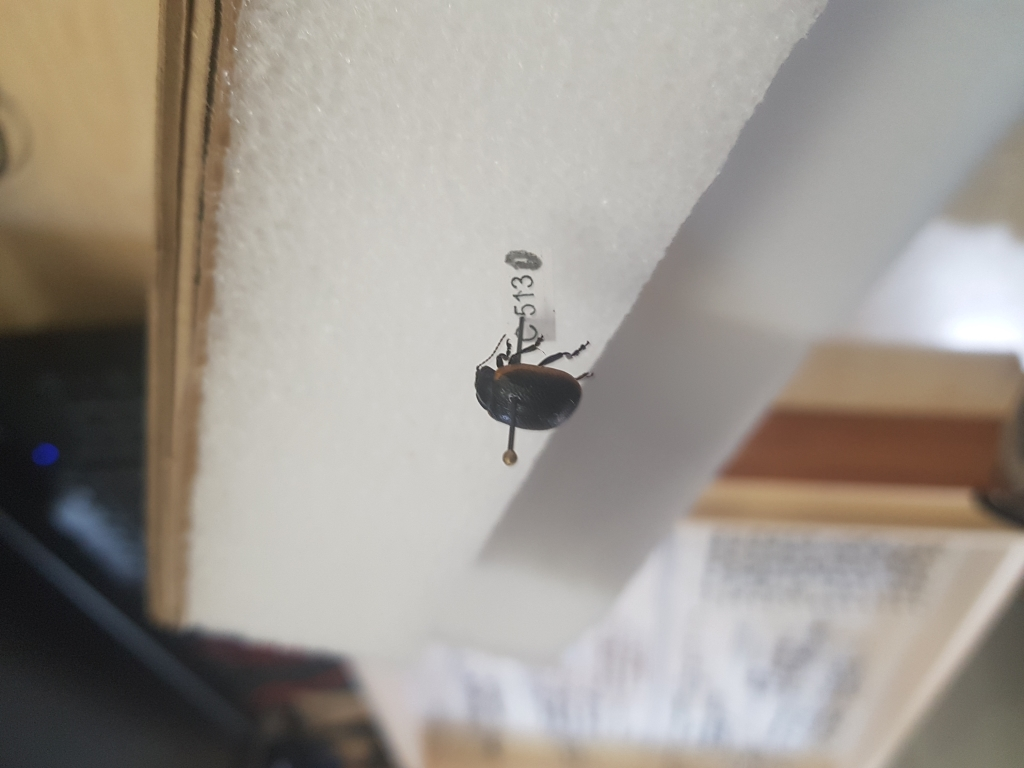Chrysolina_gypsophila: (466, 332, 599, 437)
